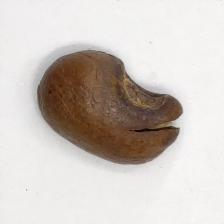NG: (110, 50, 185, 137)
